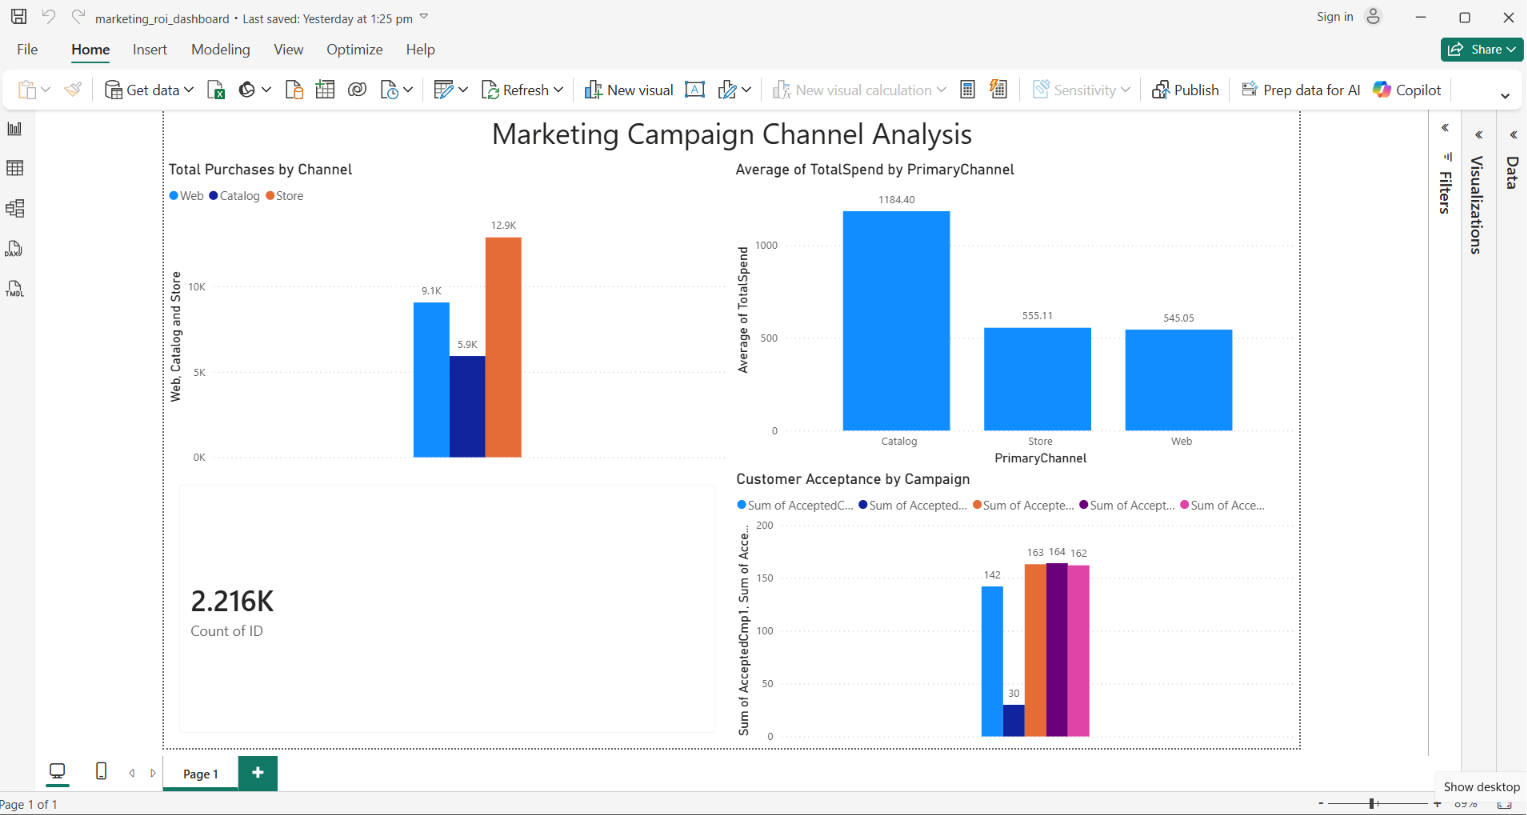

The page's visual inventory and layout, read from the dashboard file:
{"tool":"powerbi","page":{"name":"Page 1","canvas":[1280,720],"ordinal":0},"visuals":[{"type":"clusteredColumnChart","title":"Total Purchases by Channel","fields":{"Y":["Sum(marketing_campaign1.NumWebPurchases)","Sum(marketing_campaign1.NumCatalogPurchases)","Sum(marketing_campaign1.NumStorePurchases)"]},"box":[0,57.2,639.4,348.3],"z":0},{"type":"clusteredColumnChart","fields":{"Category":["marketing_campaign1.PrimaryChannel"],"Y":["Avg(marketing_campaign1.TotalSpend)"]},"box":[639.4,57.2,640.6,348.3],"z":1000},{"type":"cardVisual","fields":{"Data":["CountNonNull(marketing_campaign1.ID)"]},"box":[0,405.5,639.4,314.7],"z":2000},{"type":"textbox","box":[0,0,1280,57.2],"z":3000},{"type":"clusteredColumnChart","title":"Customer Acceptance by Campaign","fields":{"Y":["Sum(marketing_campaign1.AcceptedCmp1)","Sum(marketing_campaign1.AcceptedCmp2)","Sum(marketing_campaign1.AcceptedCmp3)","Sum(marketing_campaign1.AcceptedCmp4)","Sum(marketing_campaign1.AcceptedCmp5)"]},"box":[640.6,405.5,639.4,314.7],"z":4000}]}

Visuals, with their boxes on the page's 1280x720 design canvas (x1, y1, x2, y2). These are canvas units, not pixel positions in the 1527x815 screenshot, which may show the page scaled, cropped or inside an application window:
"Total Purchases by Channel" clusteredColumnChart: crop(0, 57, 639, 406)
clusteredColumnChart - marketing_campaign1.PrimaryChannel x Avg(marketing_campaign1.TotalSpend): crop(639, 57, 1280, 406)
cardVisual - CountNonNull(marketing_campaign1.ID): crop(0, 406, 639, 720)
textbox: crop(0, 0, 1280, 57)
"Customer Acceptance by Campaign" clusteredColumnChart: crop(641, 406, 1280, 720)
